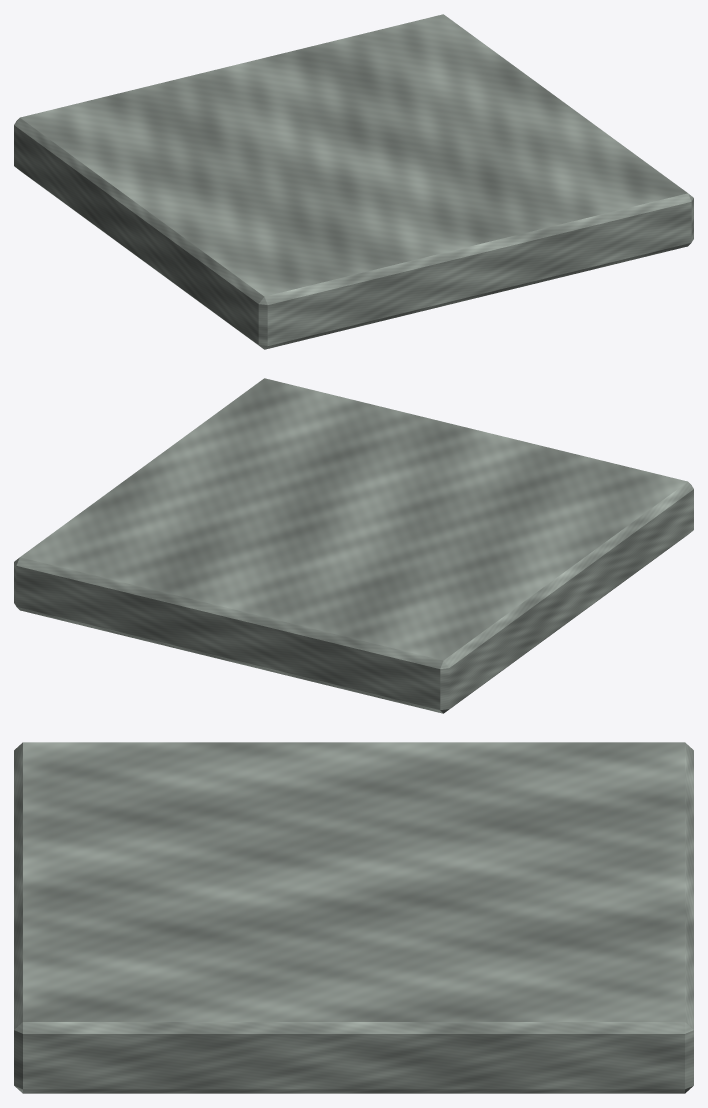
Rendered from wall_cap.glb.
3 views of the same model, one above another, from view 1: azimuth 30°, elevation 25°; view 2: azimuth 150°, elevation 25°; view 3: azimuth 270°, elevation 25° (orthographic). The views are drawn at different scales.
Parts seen in each view (by area): view 1: Architecture; view 2: Architecture; view 3: Architecture.
Boxes of the visible parts, x1,y1,x2,y2 form: Architecture: (14,14,693,349); Architecture: (14,378,693,713); Architecture: (14,742,693,1093).
Bounding box in the file's own units: 6 × 0.7 × 6.
1 material, 1 textured.
